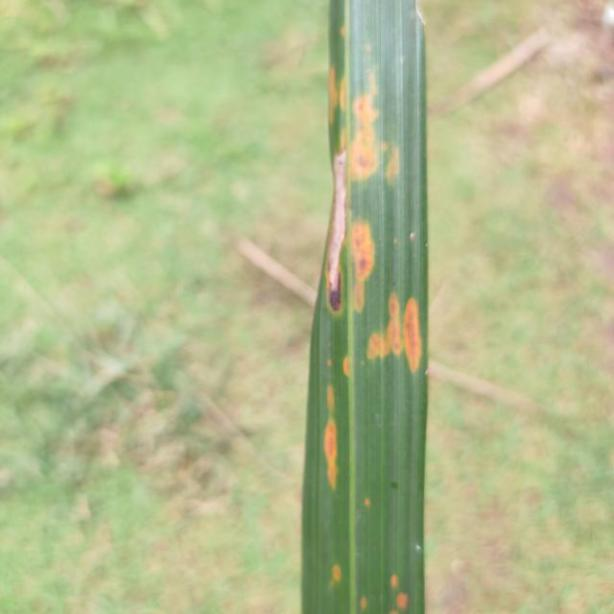Kalium: (303, 0, 434, 614)
